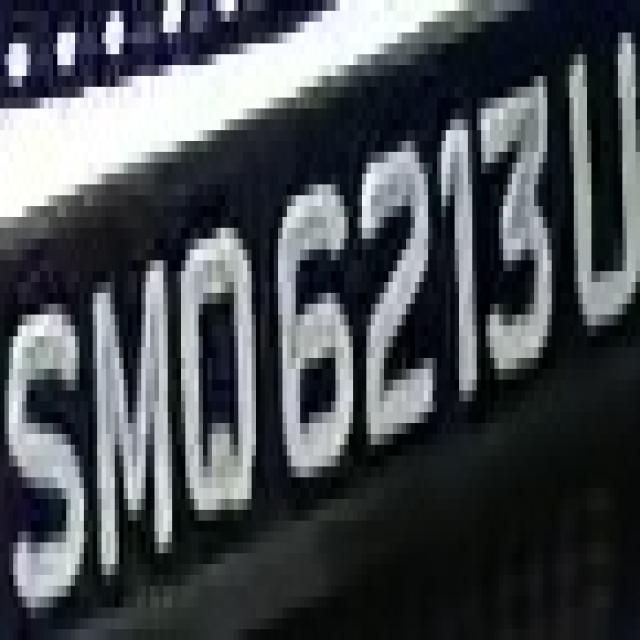1: (415, 54, 494, 434)
2: (349, 119, 441, 456)
3: (472, 54, 570, 391)
6: (256, 163, 362, 477)
M: (75, 250, 190, 618)
Q: (163, 206, 274, 553)
S: (0, 4, 1, 11)
U: (556, 0, 640, 347)
